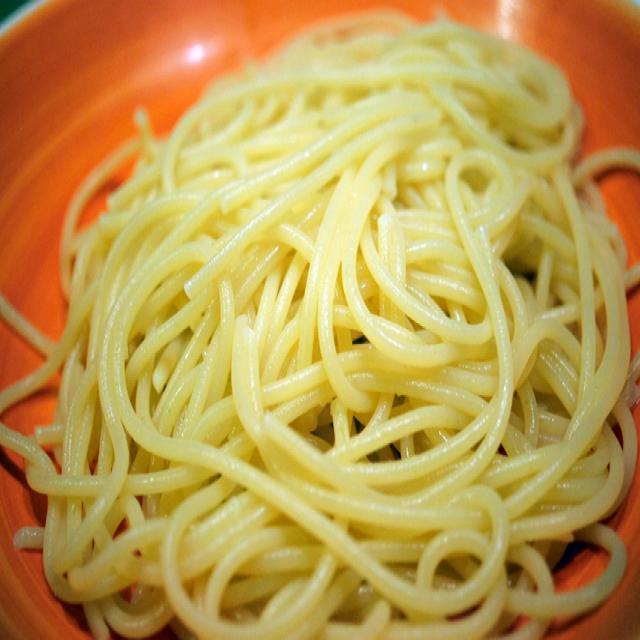Oil pasta: (29, 34, 640, 640)
